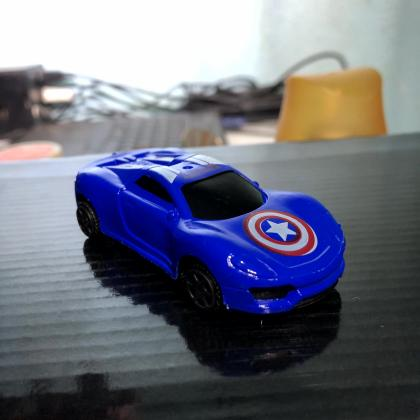Car: (74, 149, 346, 317)
